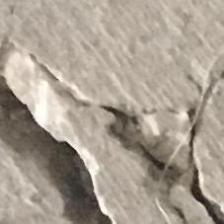Crack: (0, 44, 224, 224)
